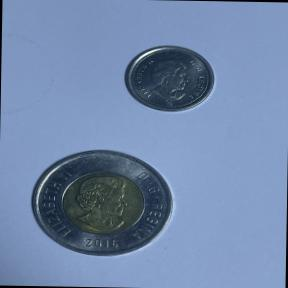coin: (24, 144, 180, 264), (120, 42, 220, 115)
